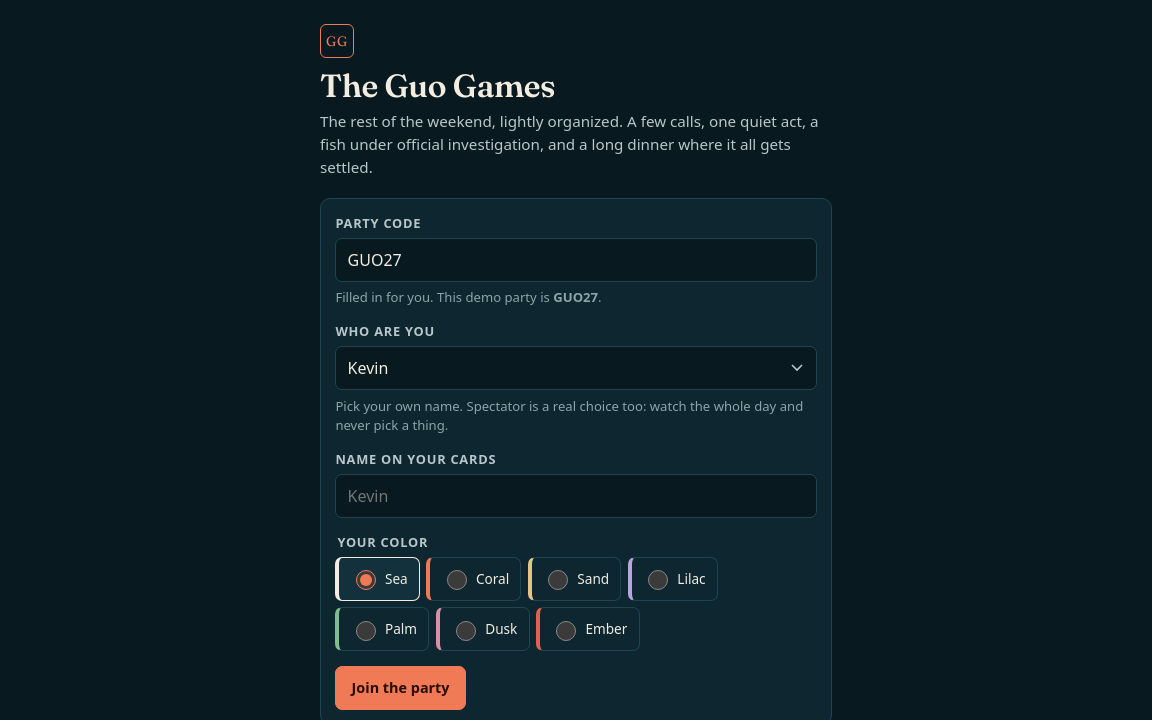
Scenario: hides the act controls from anyone who is not a Clerk
Select "Kevin" in the dropdown labelled "Who are you": (576, 368) [335, 346, 817, 390]
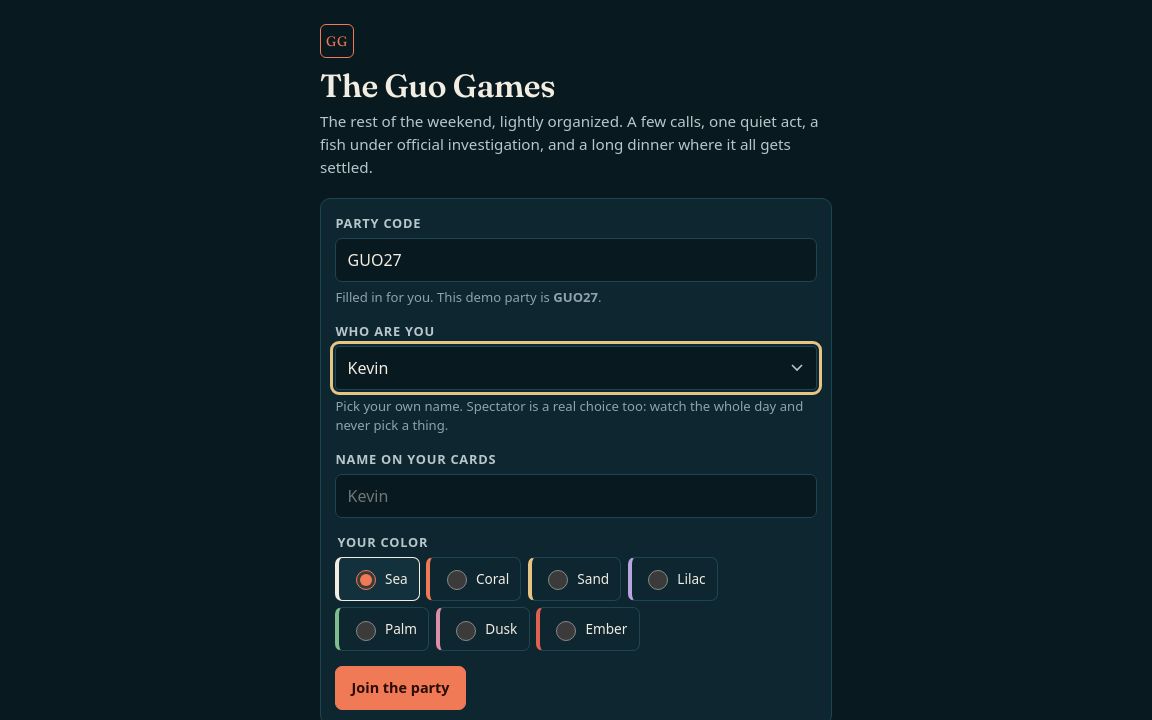
Click the button "Join the party": (401, 688) [335, 666, 466, 710]
(page scrolled)
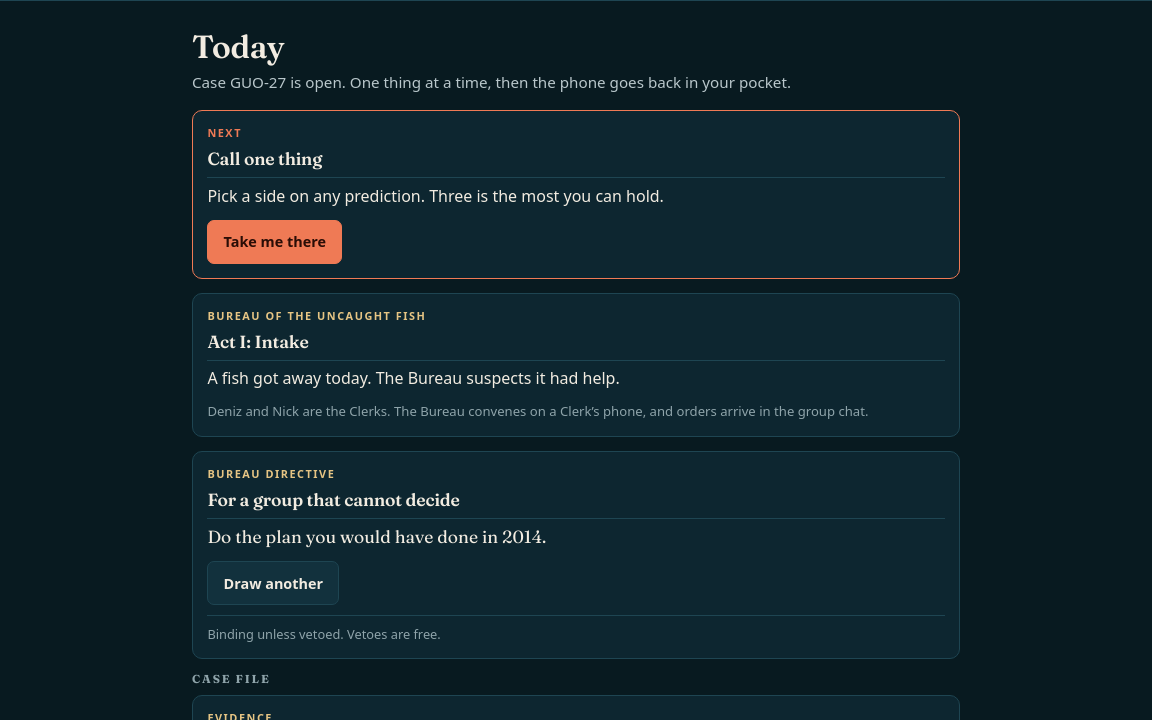
Expected: the heading "Act I: Intake" is shown, [207, 332, 945, 361]
